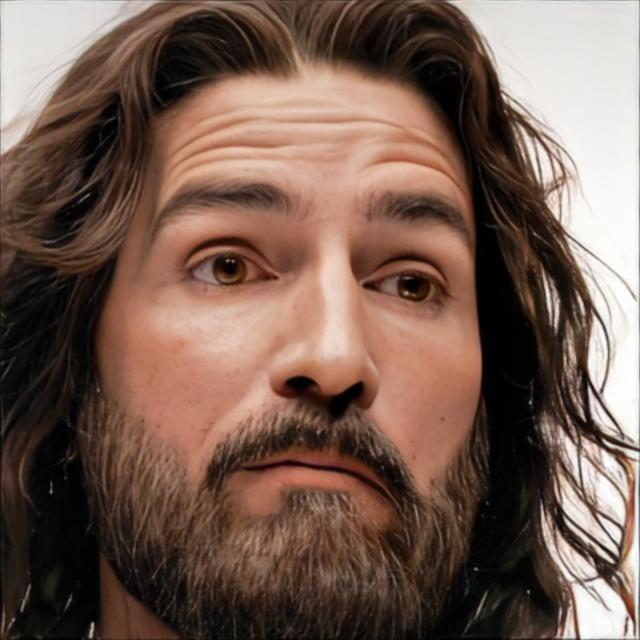surprise: (100, 59, 484, 636)
